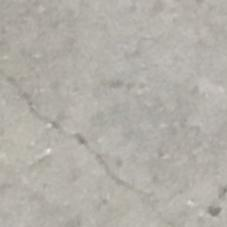Crack: (1, 71, 149, 196)
